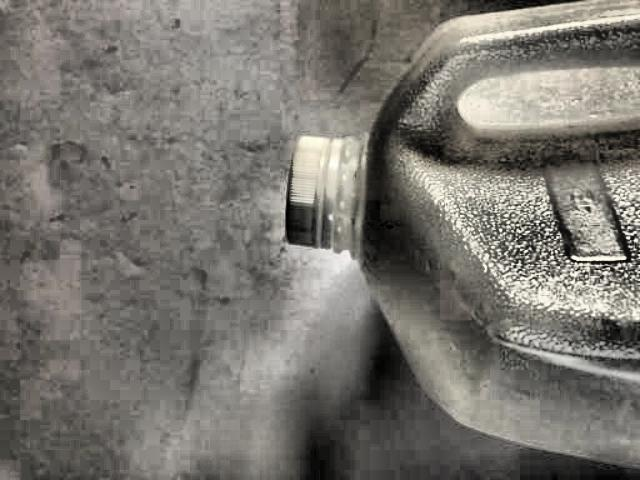Plastic: (282, 0, 632, 480)
